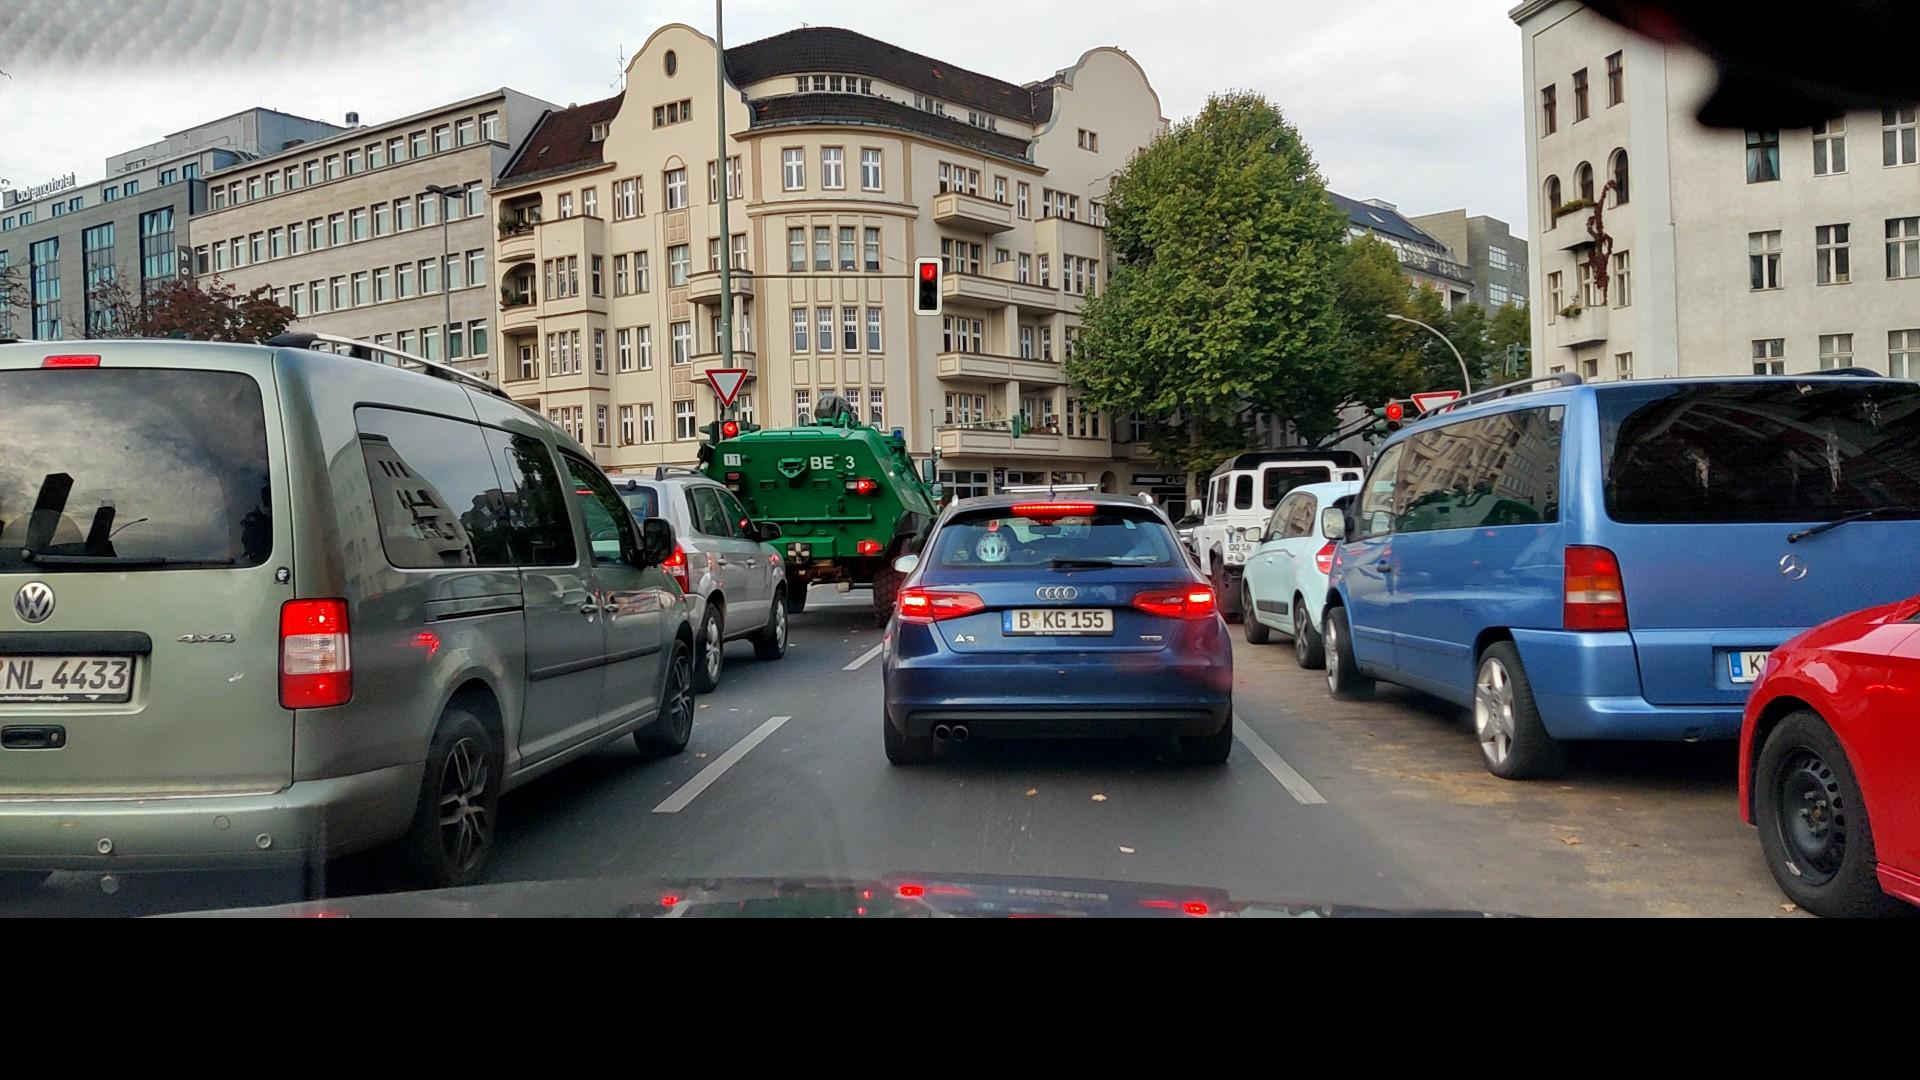Vehicle registration plate: (1, 655, 128, 700), (1000, 605, 1117, 637)
